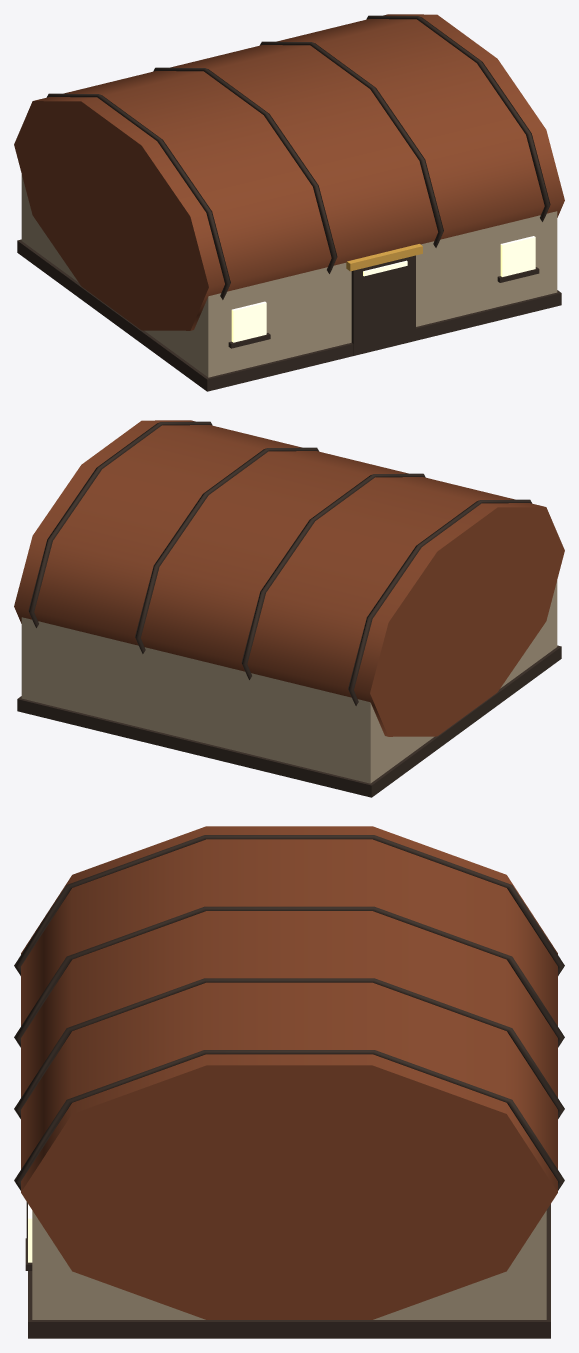
Rendered from bld_hangar.glb.
The picture shows the model from 3 angles, top to bottom: view 1: azimuth 30°, elevation 25°; view 2: azimuth 150°, elevation 25°; view 3: azimuth 270°, elevation 25°; orthographic projection. The views are drawn at different scales.
Parts seen in each view (by area): view 1: building; view 2: building; view 3: building.
Boxes of the visible parts, bbox=[...] form: building: bbox=[14, 14, 564, 391]; building: bbox=[14, 420, 564, 797]; building: bbox=[14, 826, 564, 1338].
Size of the model in its own units: 4.9 by 2.65 by 4.77.
